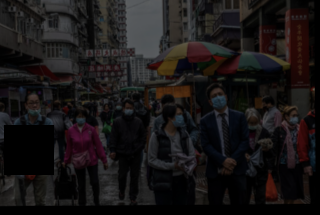mask_weared_incorrect: (25, 97, 40, 115)
with_mask: (209, 90, 226, 110), (171, 110, 184, 128), (287, 111, 298, 125), (246, 119, 259, 130), (73, 114, 86, 125), (123, 105, 134, 117), (261, 102, 268, 111), (115, 103, 121, 110), (65, 103, 71, 108)
without_mask: (103, 104, 108, 111)
